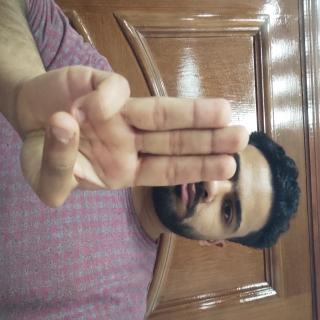THA: (45, 93, 163, 320)
